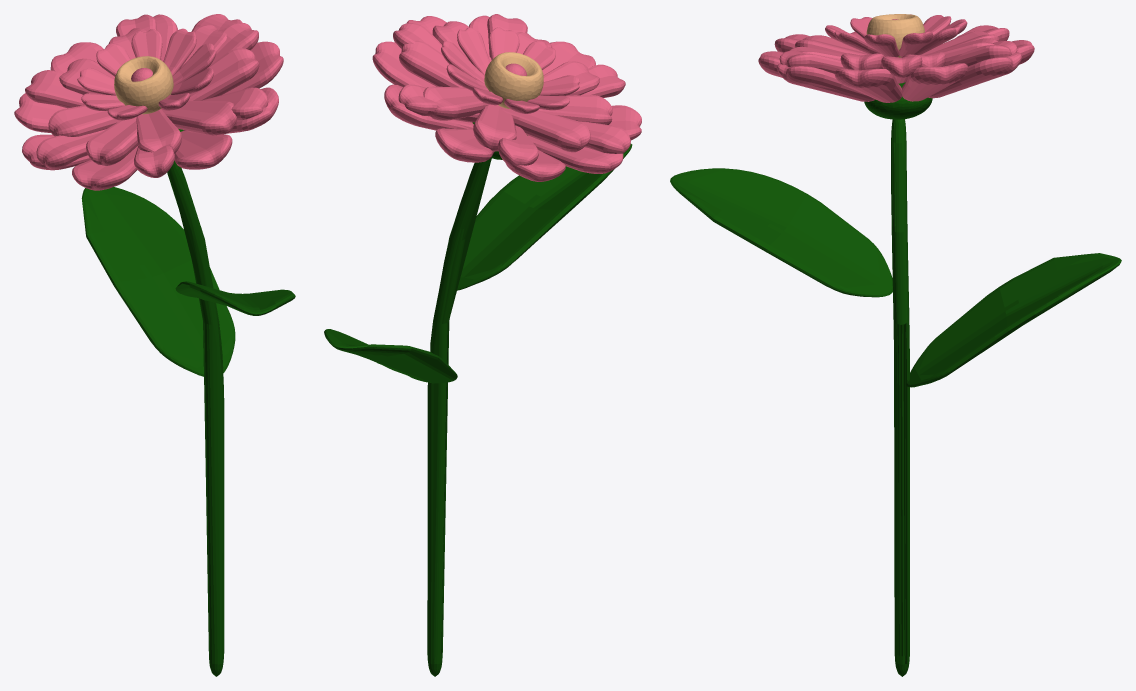
The model's file is Anger_Zinnia.glb.
3 views of the same model, side by side, from view 1: azimuth 30°, elevation 25°; view 2: azimuth 150°, elevation 25°; view 3: azimuth 270°, elevation 25° (orthographic).
Visible parts, largest first — view 1: Sphere; view 2: Sphere; view 3: Sphere.
Boxes of the visible parts, <box> form: Sphere: <box>14,14,295,676</box>; Sphere: <box>324,14,641,676</box>; Sphere: <box>670,14,1121,676</box>.
Bounding box in the file's own units: 2.59 × 6.91 × 4.45.
